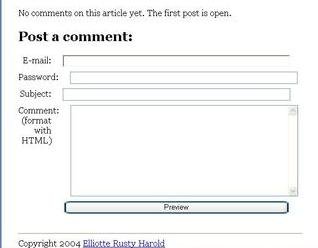button: (63, 199, 290, 216)
field: (68, 104, 299, 198), (61, 53, 292, 69), (67, 71, 298, 85), (60, 88, 291, 101)
field_with_label: (19, 103, 300, 201), (22, 51, 293, 69), (18, 70, 300, 86), (18, 86, 292, 102)
